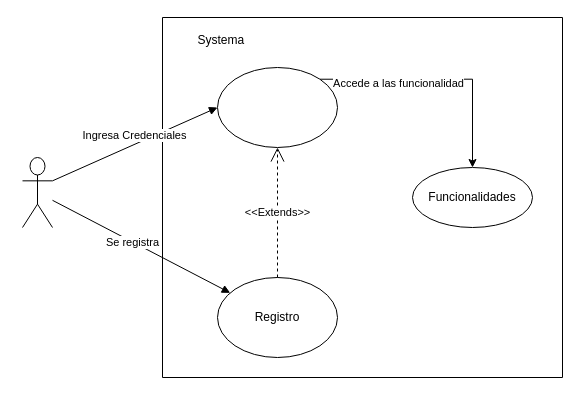
This 580x395 diagram has some shape labels left out. The shapes that lost their labels are listed below. From the top down, each one's centre as x and y in pixels, then its label:
At [277,107]: "Login".
At [37,192]: "Usuario".
